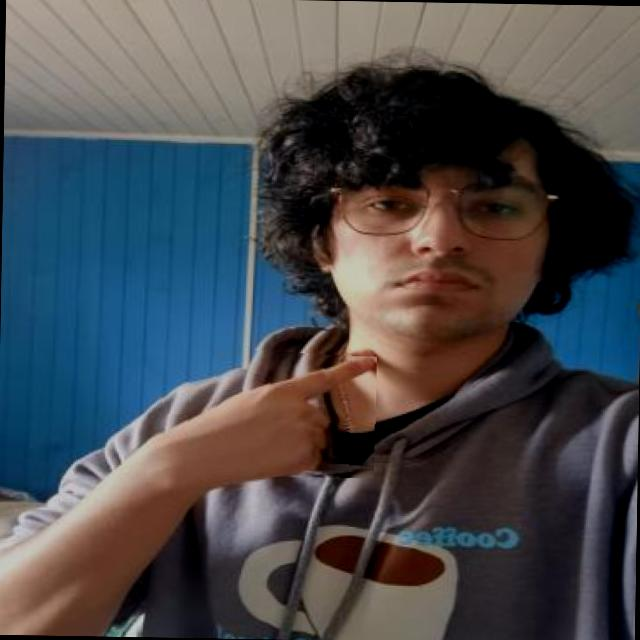Q: (146, 344, 376, 478)
